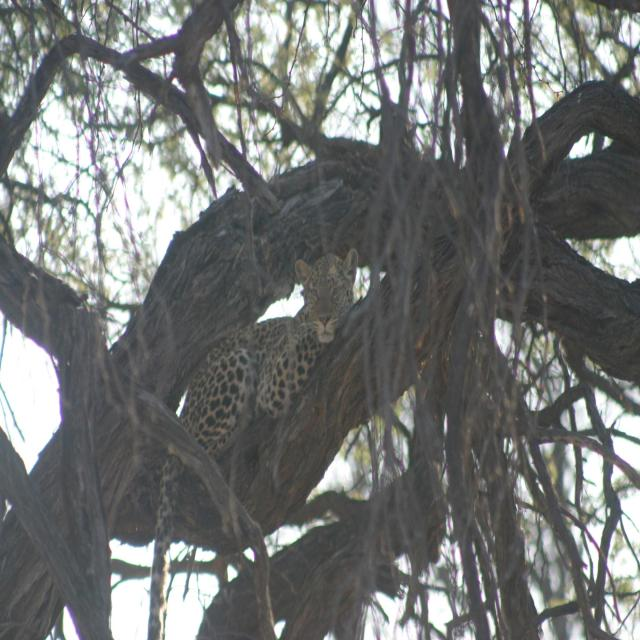Leopard: (144, 252, 359, 640)
